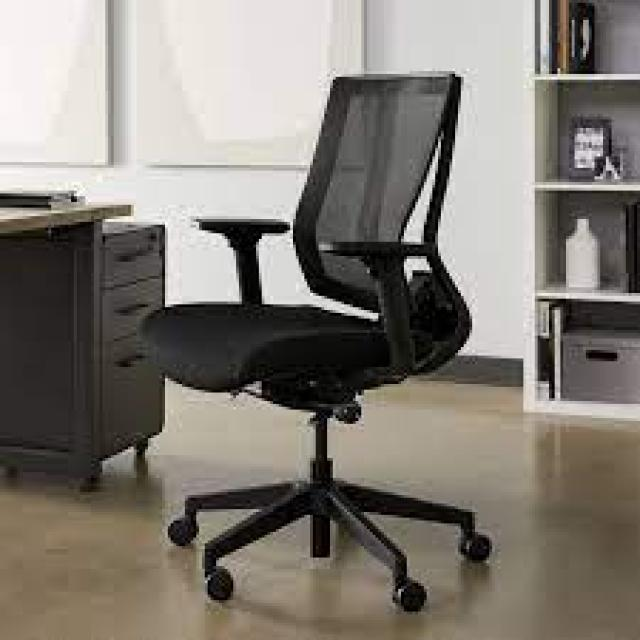chair: (2, 25, 617, 640)
